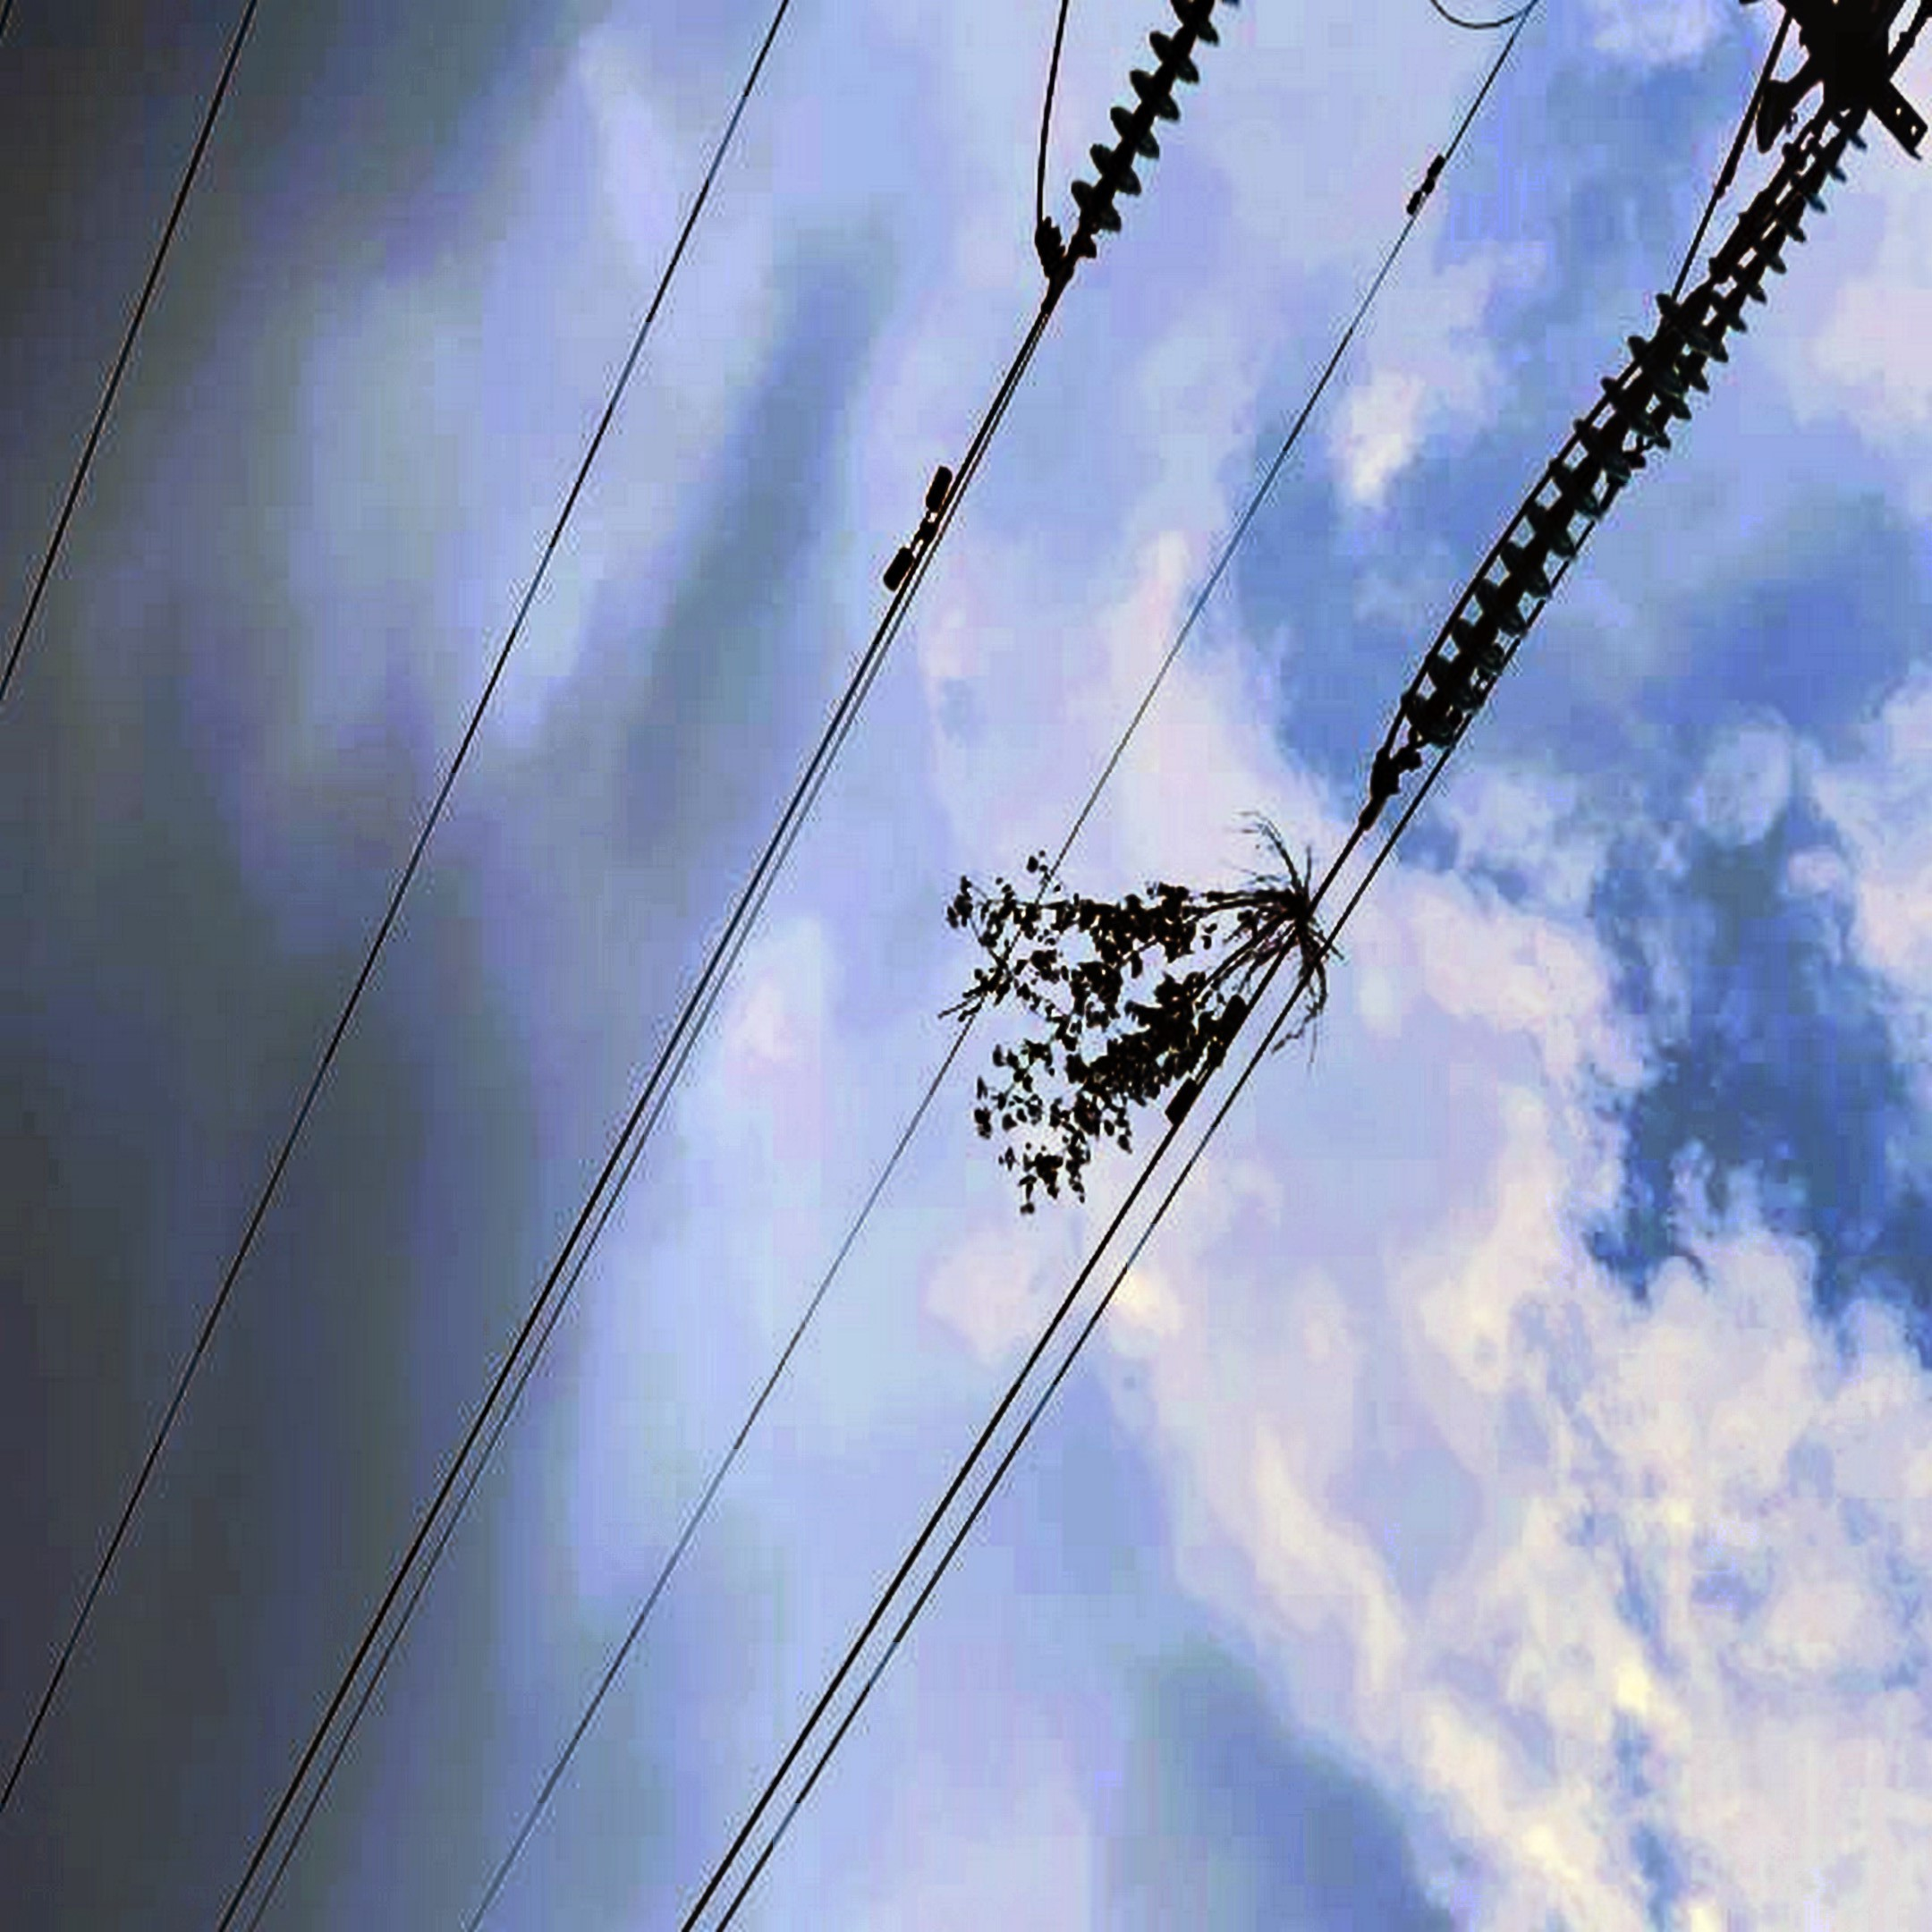wire foreign body: (897, 823, 1384, 1192)
